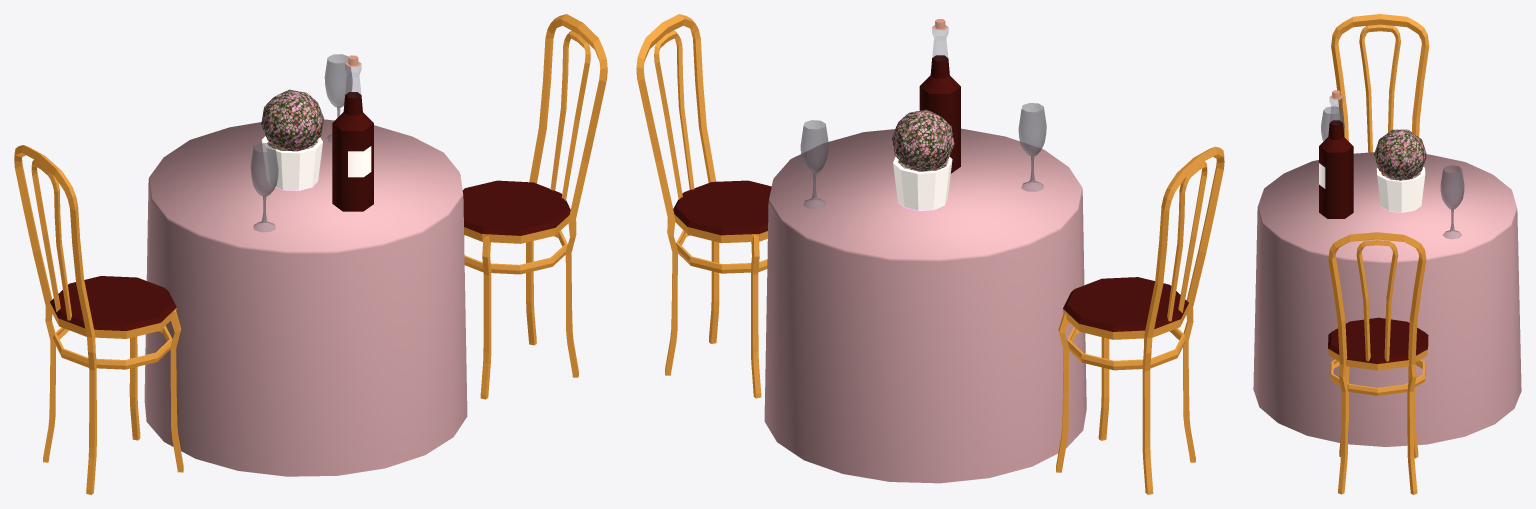
File: GeekGoddess-table.glb
The picture shows the model from 3 angles, left to right: view 1: azimuth 30°, elevation 25°; view 2: azimuth 150°, elevation 25°; view 3: azimuth 270°, elevation 25°; orthographic projection. The views are drawn at different scales.
Visible parts, largest first — view 1: table; view 2: table; view 3: table.
Boxes of the visible parts, box(x1,y1,x2,y2) form: table: box(14, 14, 607, 494); table: box(636, 14, 1224, 494); table: box(1253, 14, 1521, 494).
Size of what is drawn, in the model's own units: 2.88 by 1.9 by 1.49.
Materials: 10 (1 with a texture image).
